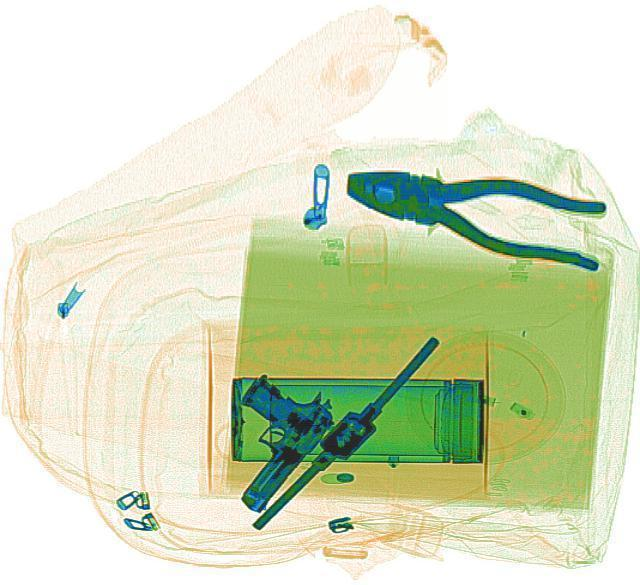Gun: (182, 361, 346, 514)
Pliers: (331, 149, 611, 271)
